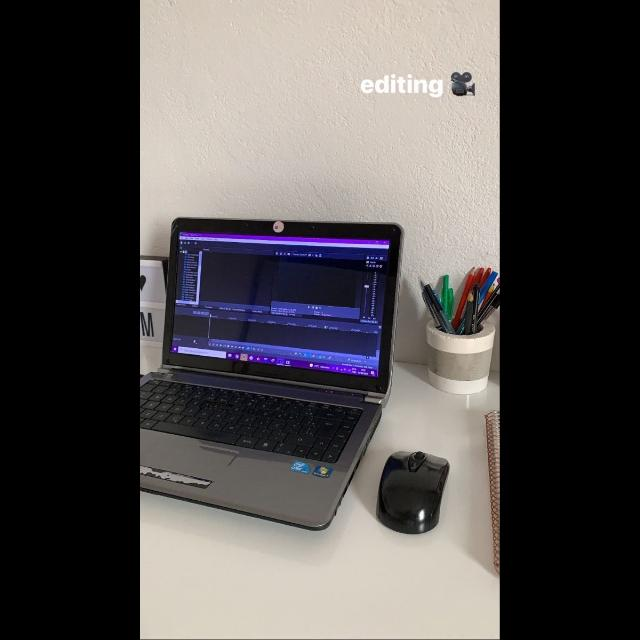laptop: (167, 196, 385, 512)
